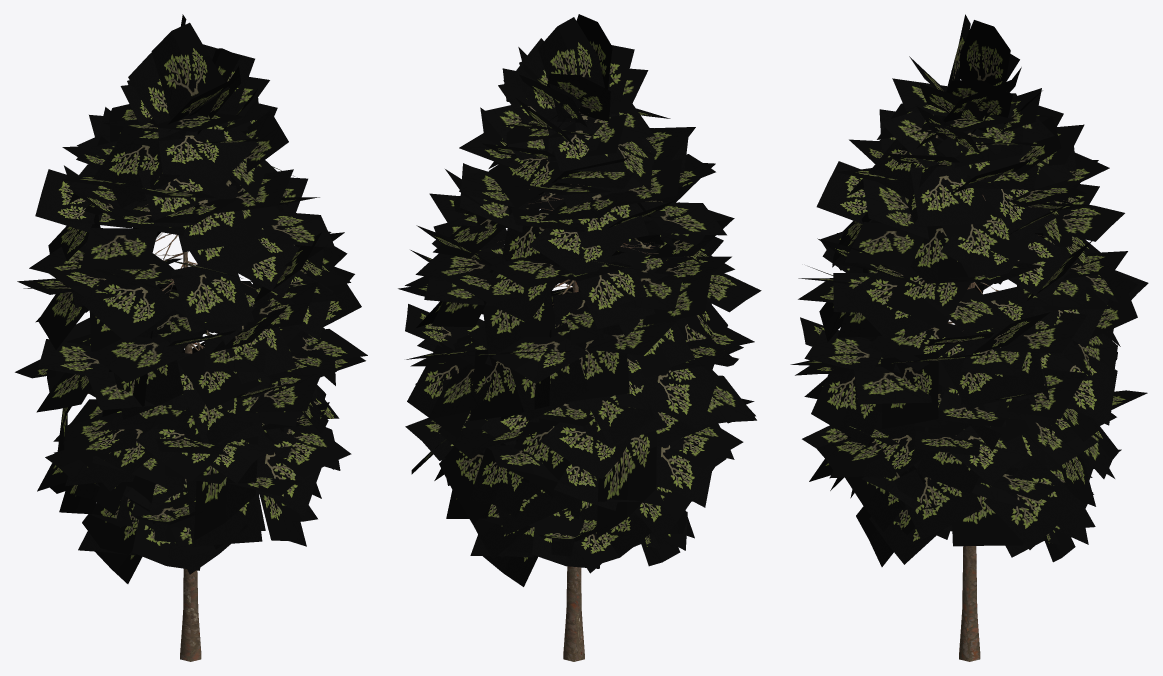
Rendered from tree.glb.
3 renders of one model, left to right at view 1: azimuth 30°, elevation 25°; view 2: azimuth 150°, elevation 25°; view 3: azimuth 270°, elevation 25°, orthographic.
Visible parts, largest first — view 1: Paine tree 1 - high; view 2: Paine tree 1 - high; view 3: Paine tree 1 - high.
Part boxes in pixels (x1=…): Paine tree 1 - high: x1=15, y1=14, x2=367, y2=661; Paine tree 1 - high: x1=398, y1=14, x2=761, y2=661; Paine tree 1 - high: x1=790, y1=14, x2=1148, y2=661.
Bounding box in the file's own units: 5.28 × 10.42 × 5.33.
2 materials, 2 textured.
